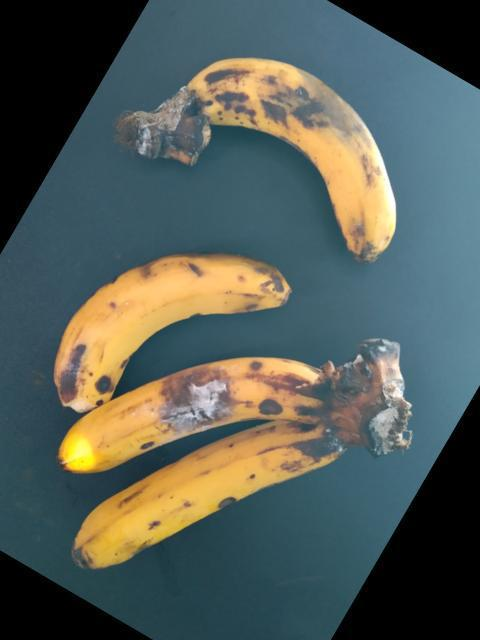ripe: (49, 427, 379, 597), (192, 36, 404, 266), (28, 235, 294, 415)
rotten: (40, 348, 338, 477)
